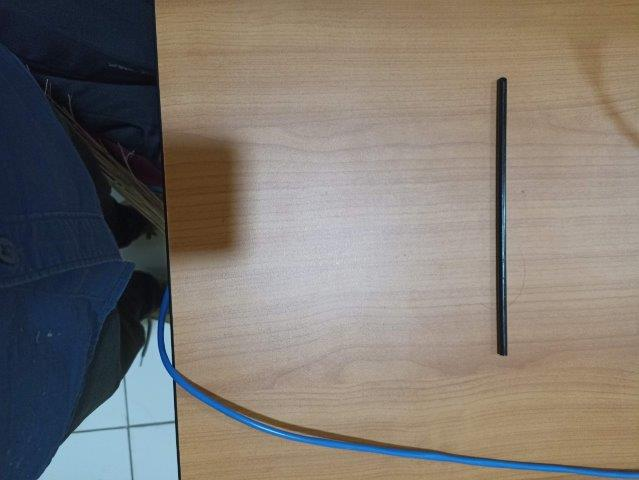sedotan: (496, 78, 508, 355)
